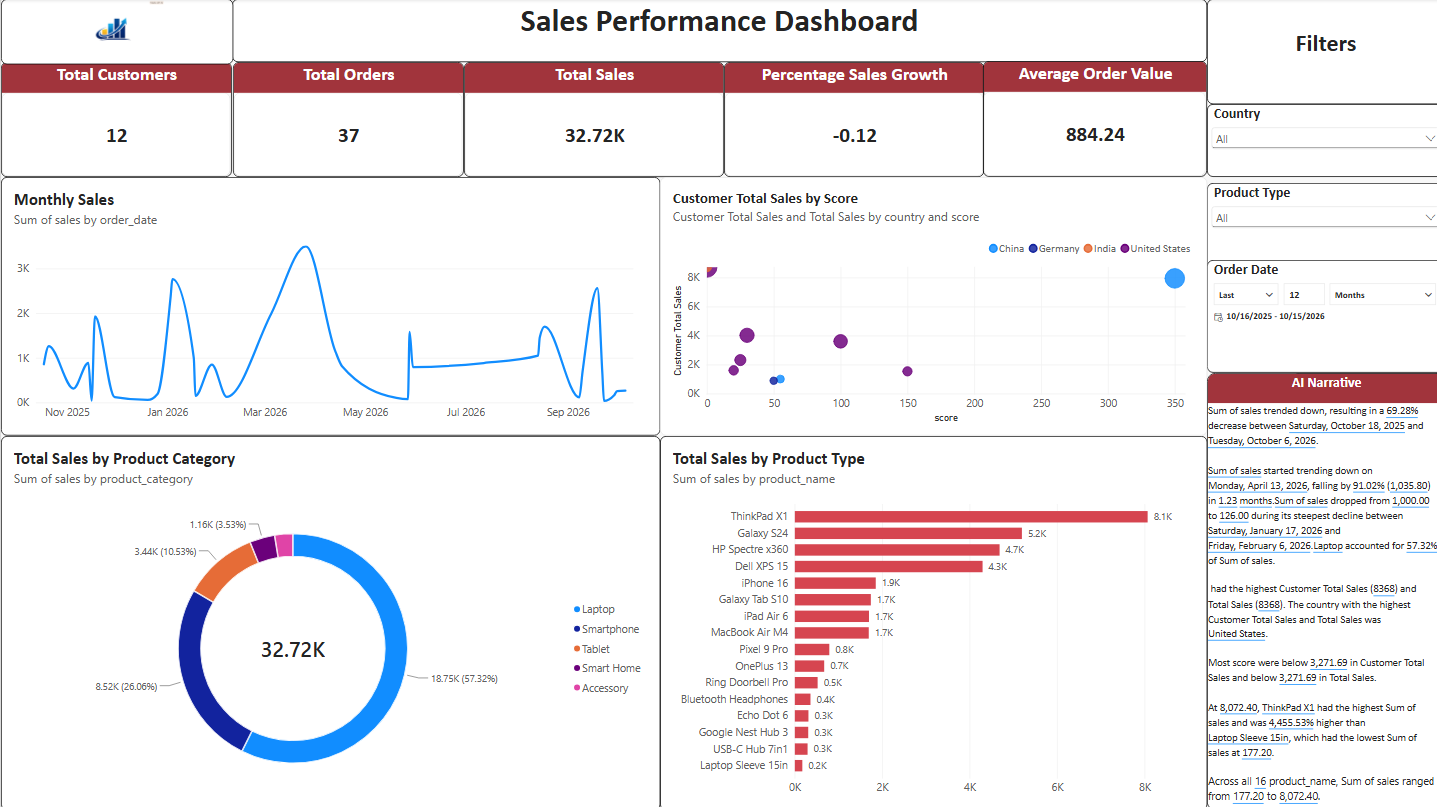

The dashboard page shown, as its layout file describes it:
{"tool":"powerbi","page":{"name":"Sales Performance","canvas":[1920,1080],"ordinal":0},"visuals":[{"type":"barChart","title":"Total Sales by Product Type","fields":{"Category":["orders.product_name"],"Y":["Sum(orders.sales)"]},"box":[876.5,581.2,727.5,498.8],"z":0},{"type":"donutChart","title":"Total Sales by Product Category","fields":{"Category":["orders.product_category"],"Y":["Sum(orders.sales)"]},"box":[0,581.2,876.5,498.8],"z":1000},{"type":"cardVisual","title":"Total Orders","fields":{"Data":["orders.Total Orders"]},"box":[308.7,83.7,306.6,153.3],"z":2000},{"type":"cardVisual","title":"Total Customers","fields":{"Data":["Count(orders.customer_id)"]},"box":[0,83.7,306.6,153.3],"z":3000},{"type":"cardVisual","title":"Total Sales","fields":{"Data":["orders.Total Sales"]},"box":[615.7,83.7,346,153],"z":4000},{"type":"lineChart","title":"Monthly Sales","fields":{"Category":["orders.order_date.Variation.Date Hierarchy.Year"],"Y":["Sum(orders.sales)"]},"box":[0,236.7,876.5,344.5],"z":5000},{"type":"slicer","fields":{"Values":["customers.country"]},"box":[1604,139.7,316.6,97.1],"z":6000},{"type":"slicer","fields":{"Values":["orders.product_category"]},"box":[1604,244.7,316.6,114.4],"z":7000},{"type":"slicer","fields":{"Values":["orders.order_date"]},"box":[1604,347.1,316.6,150.3],"z":8000},{"type":"textbox","box":[307.2,0,1296.8,83.8],"z":9000},{"type":"textbox","box":[1604,0,316.6,139.7],"z":10000},{"type":"image","box":[0,0,308.7,87.2],"z":11000},{"type":"textbox","box":[1718,497.1,202.3,582.6],"z":12000},{"type":"cardVisual","title":"Percentage Sales Growth","fields":{"Data":["orders.Sales Growth %"]},"box":[961,83.7,346,153],"z":13000},{"type":"cardVisual","title":"Average Order Value","fields":{"Data":["orders.AOV"]},"box":[1306.1,82.5,297.9,154.3],"z":14000},{"type":"scatterChart","title":"Customer Total Sales by Score","fields":{"Series":["customers.country"],"Size":["orders.Total Sales"],"X":["customers.score"],"Y":["orders.Customer Total Sales"]},"box":[876.5,236.7,727.5,344.5],"z":15000},{"type":"textbox","title":"AI Narrative","box":[1604,497.4,316.6,582.6],"z":16000}]}

Visuals, with their boxes in screenshot pixels (x1, y1, x2, y2), scaled from the page's 1920x1080 canvas onto the 1437x807 screenshot:
"Total Sales by Product Type" barChart: crop(656, 434, 1200, 806)
"Total Sales by Product Category" donutChart: crop(0, 434, 656, 806)
"Total Orders" cardVisual: crop(231, 63, 461, 177)
"Total Customers" cardVisual: crop(0, 63, 229, 177)
"Total Sales" cardVisual: crop(461, 63, 720, 177)
"Monthly Sales" lineChart: crop(0, 177, 656, 434)
slicer - customers.country: crop(1200, 104, 1436, 177)
slicer - orders.product_category: crop(1200, 183, 1436, 268)
slicer - orders.order_date: crop(1200, 259, 1436, 372)
textbox: crop(230, 0, 1200, 63)
textbox: crop(1200, 0, 1436, 104)
image: crop(0, 0, 231, 65)
textbox: crop(1286, 371, 1436, 806)
"Percentage Sales Growth" cardVisual: crop(719, 63, 978, 177)
"Average Order Value" cardVisual: crop(978, 62, 1200, 177)
"Customer Total Sales by Score" scatterChart: crop(656, 177, 1200, 434)
"AI Narrative" textbox: crop(1200, 372, 1436, 806)
